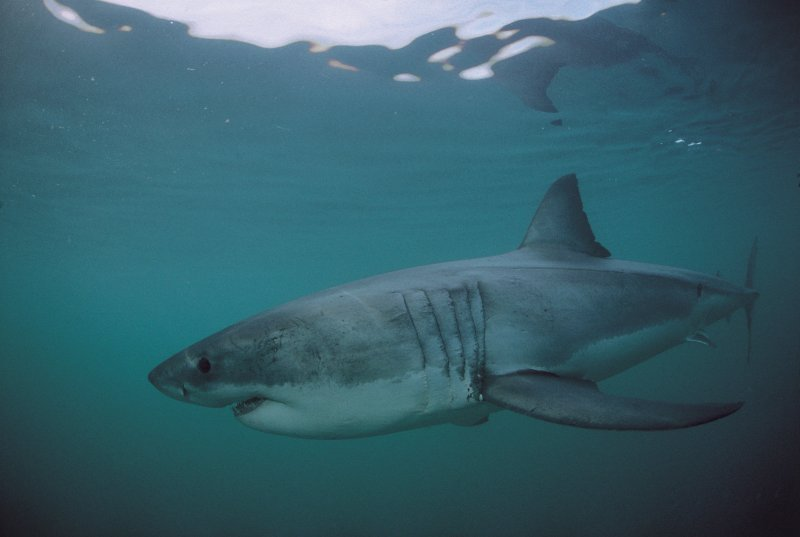Carcharodon_carcharias: (112, 172, 796, 469)
